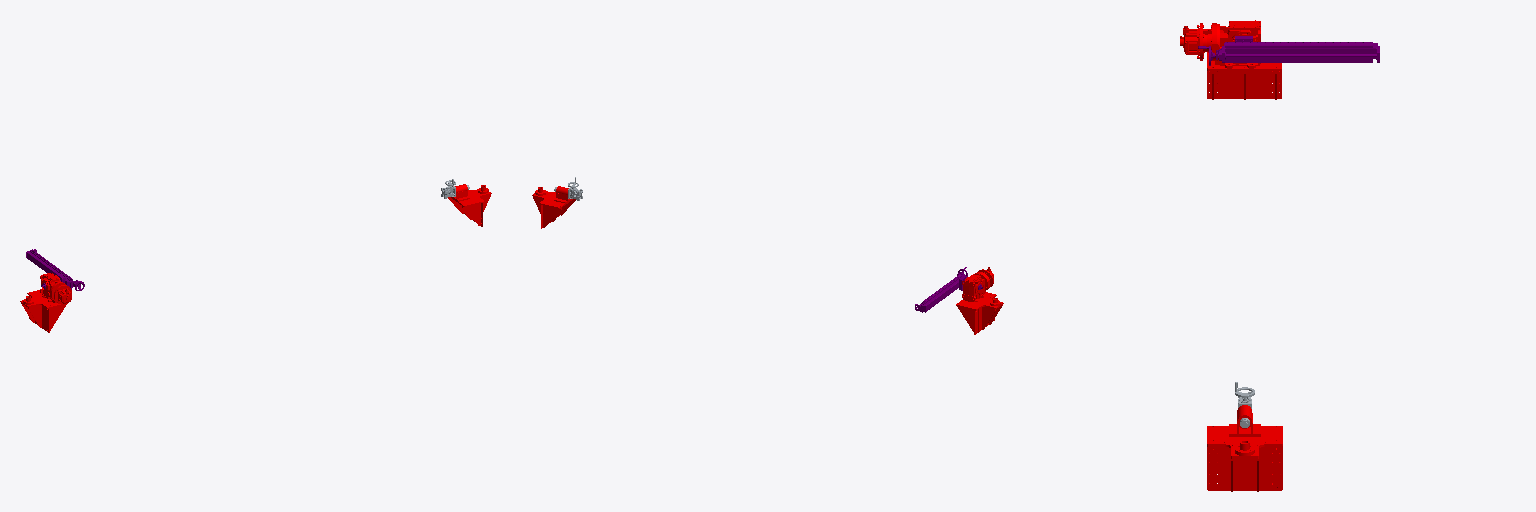
URDF robot description (positioner):
<?xml version="1.0"?>
<robot name="positioner">
  <!-- 
       Positioner Base Link
       Fixed structure, no joints.
       Mass and inertia are omitted as it is a fixed structure.
  -->
  <link name="base_link">
    <visual>
      <!-- Adjust scale if your mesh unit is not in meters (default is 1 1 1) -->
      <!-- Adjust origin if the mesh coordinate center needs fine-tuning -->
      <origin rpy="0 0 0" xyz="0 0 0" />
      <geometry>
        <mesh filename="meshes/positioner/visual/base.dae" />
      </geometry>
      <!-- Optional: Add material color if needed. DAE usually carries its own textures. -->
    </visual>
    <collision>
      <origin rpy="0 0 0" xyz="0 0 0" />
      <geometry>
        <mesh filename="meshes/positioner/collision/base.stl" scale="0.001 0.001 0.001"/>
      </geometry>
    </collision>
  </link>

  <!-- 
       NOTE: For some physics simulation environments (like Gazebo or PyBullet),
       a base_link with no joints or inertia might still fall to the ground 
       or cause warnings.
       
       If you need to strictly fix this model to the world in a physics engine,
       uncomment the following code block:
  -->
  <!--
  <link name="world"/>
  <joint name="world_fixed_joint" type="fixed">
    <parent link="world" />
    <child link="base_link" />
    <origin rpy="0 0 0" xyz="0 0 0" />
  </joint>
  -->

  <!-- ============================================================
       f_column_z: base에서 z축으로 이동하는 prismatic joint
       m_column_z와 항상 동기화되어 동일한 z축 위치를 유지합니다.
       (동기화 로직은 kinematics 소프트웨어 레이어에서 구현 필요)
       ============================================================ -->
  <link name="f_column_z">
    <visual>
      <origin rpy="0 0 0" xyz="0.26 1.375 1.3" />
      <geometry>
        <mesh filename="meshes/positioner/visual/f_column_z.dae"/>
      </geometry>
      <material name="red_color">
        <color rgba="1.0 0.0 0.0 1.0"/>
      </material>
    </visual>
    <collision>
      <origin rpy="0 0 0" xyz="0 0 0" />
      <geometry>
        <mesh filename="meshes/positioner/collision/f_column_z.stl" scale="0.001 0.001 0.001"/>
      </geometry>
    </collision>
  </link>

  <joint name="base_to_f_column_z" type="prismatic">
    <parent link="base_link" />
    <child link="f_column_z" />
    <!-- SYNC: 이 조인트는 m_column_to_m_column_z와 동기화됩니다 (동일 z축 위치) -->
    <origin rpy="0 0 0" xyz="0 0 0" />
    <axis xyz="0 0 1" />
    <limit effort="1000.0" lower="0.0" upper="0.85" velocity="1.0" />
  </joint>

  <!-- ============================================================
       m_column: 수동으로 조작되는 prismatic joint (x축 이동)
       Kinematics 해석 시 이 조인트의 구동값은 사용자가 입력한 값을
       계속 유지해야 합니다 (수동 조작 조인트).
       Movement range: 0 ~ 8500 mm (0.0 ~ 8.5 m)
       ============================================================ -->
  <link name="m_column">
    <visual>
      <origin rpy="0 0 0" xyz="0 0 0" />
      <geometry>
        <mesh filename="meshes/positioner/visual/m_column.dae"/>
      </geometry>
      <material name="green_color">
        <color rgba="0.0 1.0 0.0 1.0"/>
      </material>
    </visual>
    <collision>
      <origin rpy="0 0 0" xyz="0 0 0" />
      <geometry>
        <mesh filename="meshes/positioner/collision/m_column.stl" scale="0.001 0.001 0.001"/>
      </geometry>
    </collision>
  </link>

  <!-- MANUAL JOINT: 수동 조작 조인트 - kinematics 해석 시 사용자 입력값 유지 -->
  <joint name="base_to_m_column" type="prismatic">
    <parent link="base_link" />
    <child link="m_column" />
    <!-- 특정 옵셋만큼 떨어진 위치 (필요시 수정) -->
    <origin rpy="0 0 0" xyz="8.0 1.377 0.328" />
    <axis xyz="1 0 0" />
    <limit effort="1000.0" lower="-4.7" upper="0.0" velocity="1.0" />
  </joint>

  <!-- ============================================================
       m_column_z: m_column에서 z축으로 이동하는 prismatic joint
       f_column_z와 항상 동기화되어 동일한 z축 위치를 유지합니다.
       (동기화 로직은 kinematics 소프트웨어 레이어에서 구현 필요)
       ============================================================ -->
  <link name="m_column_z">
    <visual>
      <origin rpy="0 0 0" xyz="0 0 0.885" />
      <geometry>
        <mesh filename="meshes/positioner/visual/m_column_z.dae"/>
      </geometry>
      <material name="red_color">
        <color rgba="1.0 0.0 0.0 1.0"/>
      </material>
    </visual>
    <collision>
      <origin rpy="0 0 0" xyz="0 0 0" />
      <geometry>
        <mesh filename="meshes/positioner/collision/m_column_z.stl" scale="0.001 0.001 0.001"/>
      </geometry>
    </collision>
  </link>

  <!-- SYNC: 이 조인트는 base_to_f_column_z와 동기화됩니다 (동일 z축 위치) -->
  <joint name="m_column_to_m_column_z" type="prismatic">
    <parent link="m_column" />
    <child link="m_column_z" />
    <origin rpy="0 0 0" xyz="0 0 0" />
    <axis xyz="0 0 1" />
    <limit effort="1000.0" lower="0.0" upper="0.85" velocity="1.0" />
    <mimic joint="base_to_f_column_z" multiplier="1.0" offset="0.0" />
  </joint>
  <!-- ============================================================
       m_column_passive_r: m_column_z 하위의 revolute joint
       수동으로 조작하는 조인트로 사용자가 입력하는 값에만 대응합니다.
       ============================================================ -->
  <link name="m_column_passive_r">
    <visual>
      <origin rpy="0 0 0" xyz="0 0 0" />
      <geometry>
        <mesh filename="meshes/positioner/visual/m_column_passive_r.dae"/>
      </geometry>
    </visual>
    <collision>
      <origin rpy="0 0 0" xyz="0.247 0 -0.885" />
      <geometry>
        <mesh filename="meshes/positioner/collision/m_column_passive_r.stl" scale="0.001 0.001 0.001"/>
      </geometry>
    </collision>
  </link>

  <!-- MANUAL JOINT: 수동 조작 조인트 - kinematics 해석 시 사용자 입력값 대응 -->
  <joint name="m_column_z_to_m_column_passive_r" type="revolute">
    <parent link="m_column_z" />
    <child link="m_column_passive_r" />
    <origin rpy="0 0 0" xyz="-0.247 0 0.885" />
    <axis xyz="1 0 0" /> <!-- 회전축은 필요시 수정 -->
    <limit effort="1000.0" lower="-3.14159" upper="3.14159" velocity="1.0" />
  </joint>
  <!-- ============================================================
       f_column_r: f_column_z 하위의 revolute joint
       ============================================================ -->
  <link name="f_column_r">
    <visual>
      <origin rpy="0 0 0" xyz="0 0 0" />
      <geometry>
        <mesh filename="meshes/positioner/visual/f_column_r.dae"/>
      </geometry>
      <material name="purple_color">
        <color rgba="0.5 0.0 0.5 1.0"/>
      </material>
    </visual>
    <collision>
      <origin rpy="0 0 0" xyz="0 0 0" />
      <geometry>
        <mesh filename="meshes/positioner/collision/f_column_r.stl" scale="0.001 0.001 0.001"/>
      </geometry>
    </collision>
  </link>

  <joint name="f_column_z_to_f_column_r" type="revolute">
    <parent link="f_column_z" />
    <child link="f_column_r" />
    <origin rpy="0 0 0" xyz="0.48 1.37 1.3" />
    <axis xyz="1 0 0" />
    <limit effort="1000.0" lower="-3.14159" upper="3.14159" velocity="1.0" />
  </joint>

  <!-- ============================================================
       f_column_passive_clamp: f_column_r 하위의 prismatic joint
       ============================================================ -->
  <link name="f_column_passive_clamp">
    <visual>
      <origin rpy="0 0 0" xyz="0 0 0" />
      <geometry>
        <mesh filename="meshes/positioner/visual/f_column_passive_clamp.dae"/>
      </geometry>
    </visual>
    <collision>
      <origin rpy="0 0 0" xyz="0 0 0" />
      <geometry>
        <mesh filename="meshes/positioner/collision/f_column_passive_clamp.stl" scale="0.001 0.001 0.001"/>
      </geometry>
    </collision>
  </link>

  <joint name="f_column_r_to_f_column_passive_clamp" type="prismatic">
    <parent link="f_column_r" />
    <child link="f_column_passive_clamp" />
    <origin rpy="0 0 0" xyz="0.427 0.9 0.0" />
    <axis xyz="0 1 0" />
    <limit effort="1000.0" lower="-0.9" upper="0.0" velocity="1.0" />
  </joint>

</robot>

--- Render facts (derived) ---
3 views of the same robot in one strip: view 1: azimuth 30°, elevation 25°; view 2: azimuth 150°, elevation 25°; view 3: azimuth 270°, elevation 25° (orthographic).
Robot: positioner — 7 links, 6 joints (2 revolute, 4 prismatic); root link base_link; default pose: all joints at 0.
Visible links, largest first — view 1: f_column_z, m_column_z, f_column_r; view 2: f_column_z, m_column_z, f_column_r; view 3: m_column_z, f_column_z, f_column_r.
Boxes of the visible links, x1,y1,x2,y2 form: f_column_z: (20, 273, 71, 332); m_column_z: (448, 184, 491, 226); f_column_r: (26, 249, 84, 290); f_column_z: (956, 267, 1003, 334); m_column_z: (532, 186, 575, 228); f_column_r: (915, 267, 982, 312); m_column_z: (1207, 405, 1282, 491); f_column_z: (1180, 20, 1281, 99); f_column_r: (1198, 36, 1379, 65).
Bounding box of the posed robot: 7.9 × 1.6 × 0.778 m (x, y, z).
Meshes: 7 distinct files referenced, 4 mesh visuals loaded (4 Collada DAE); not drawn: 3 (reference not matched to a file when rendering).
